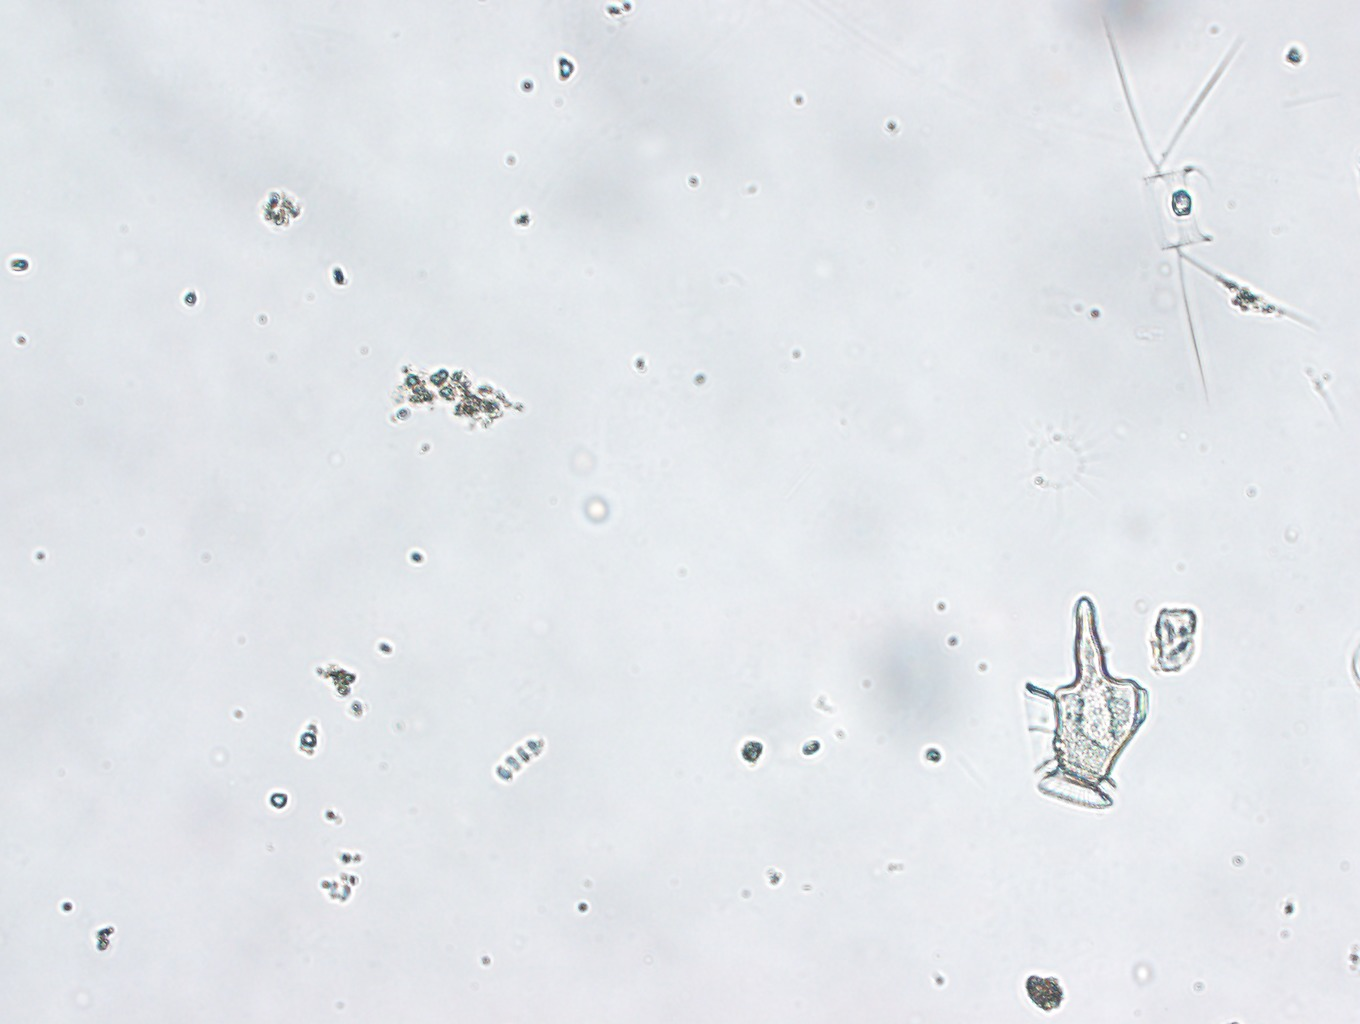chaetoceros: (1101, 19, 1321, 403)
dinophysis caudata: (1017, 589, 1155, 817)
